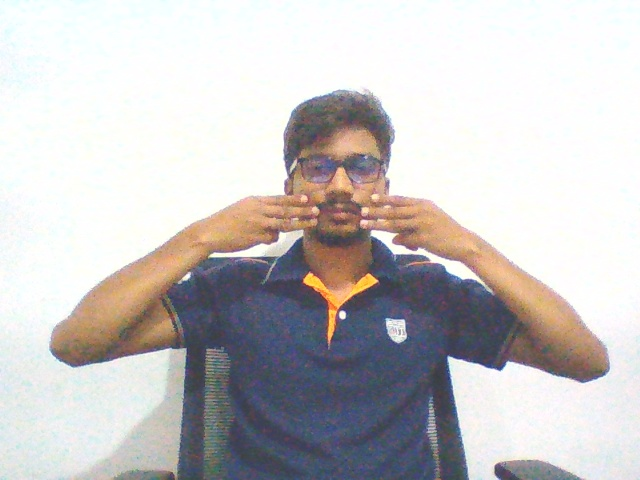cat: (184, 184, 480, 278)
